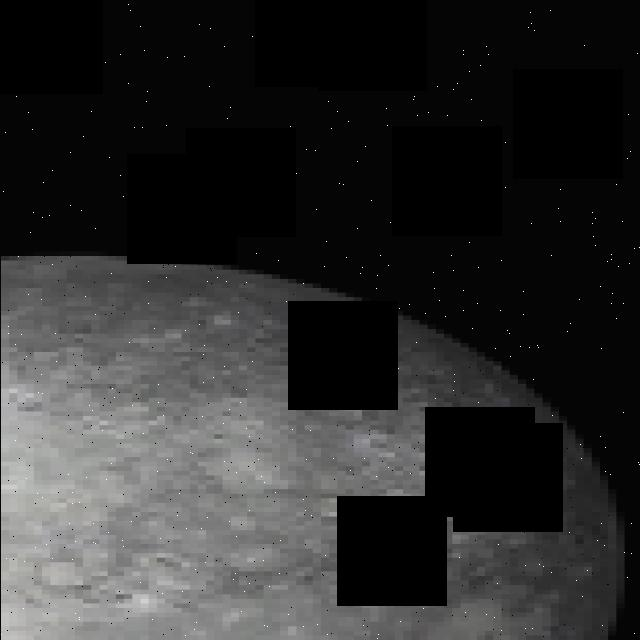Mercury: (0, 256, 624, 640)
